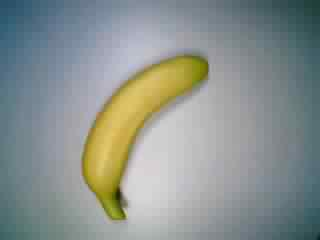banana: (78, 48, 211, 224)
